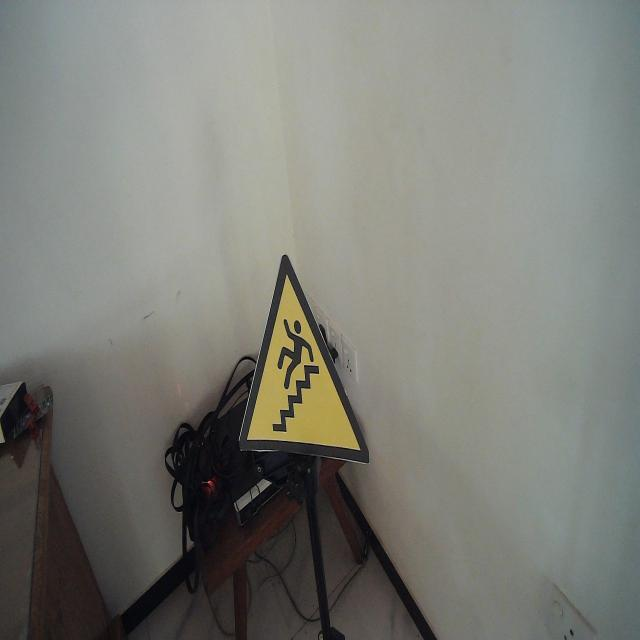stairs: (237, 252, 372, 468)
